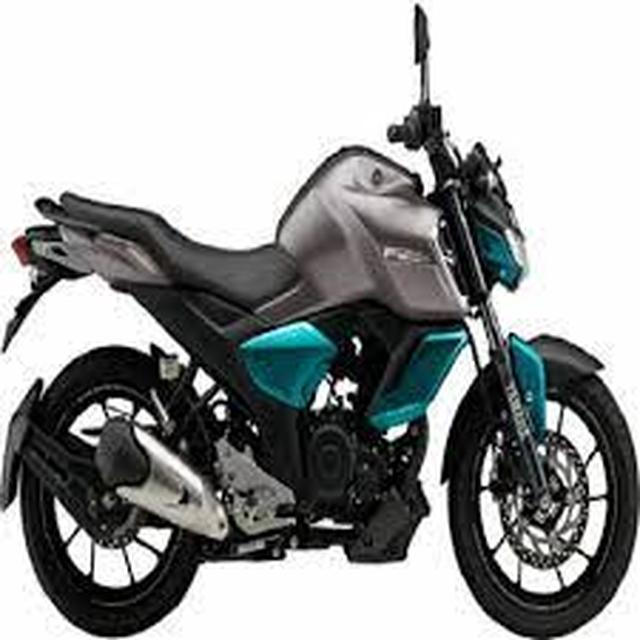motorcycle: (5, 0, 640, 640)
